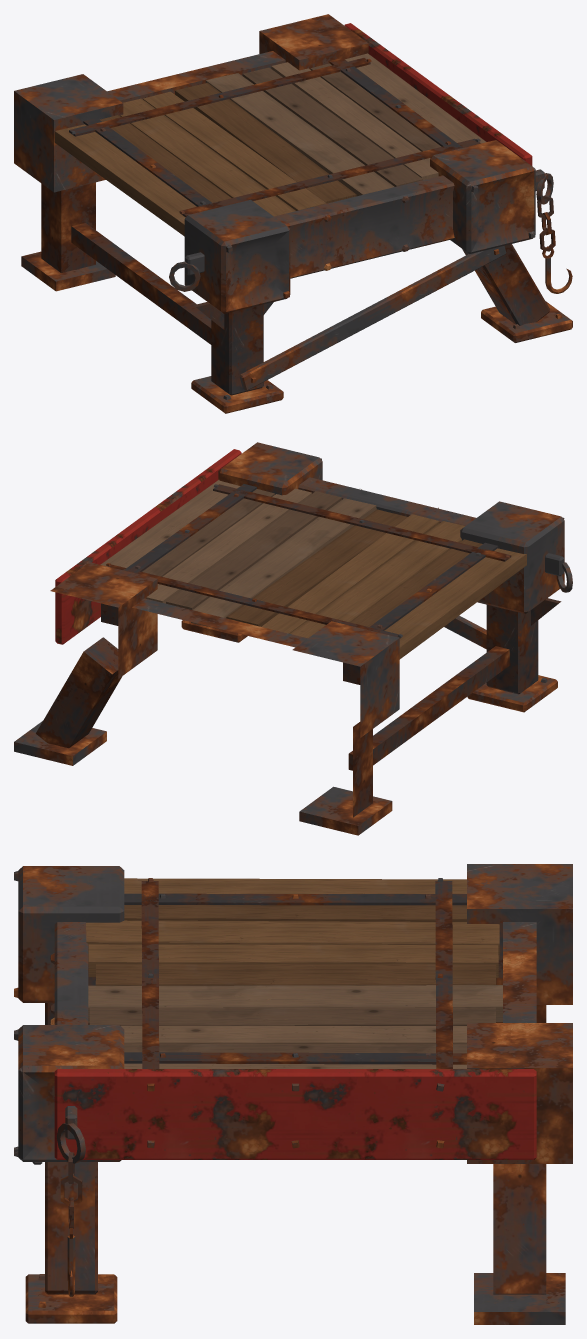
The model's file is Platform_End_R.glb.
3 views of the same model, one above another, from view 1: azimuth 30°, elevation 25°; view 2: azimuth 150°, elevation 25°; view 3: azimuth 270°, elevation 25° (orthographic). The views are drawn at different scales.
Visible parts, largest first — view 1: Platform_End_R; view 2: Platform_End_R; view 3: Platform_End_R.
Part boxes in pixels (x1,y1,x2,y2): Platform_End_R: [14, 14, 572, 413]; Platform_End_R: [14, 442, 572, 835]; Platform_End_R: [14, 864, 572, 1324].
Size of the model in its own units: 2.54 by 1.06 by 2.32.
Materials: 5 (5 with a texture image).
